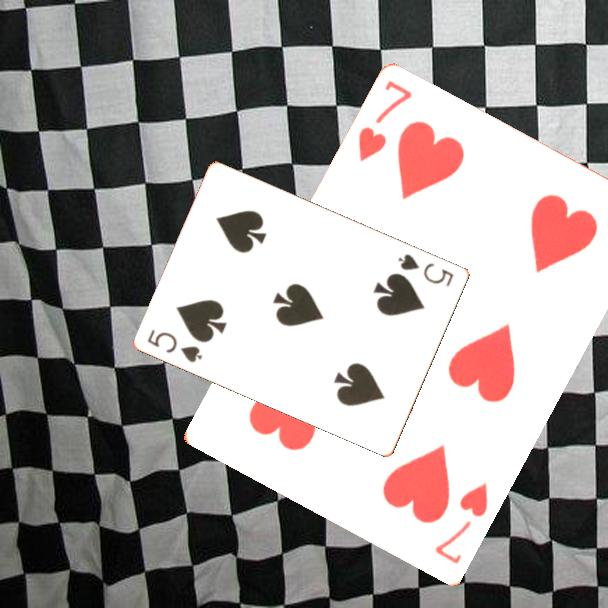h07: (431, 479, 492, 568), (354, 77, 415, 166)
s05: (395, 250, 457, 289), (144, 326, 206, 365)
